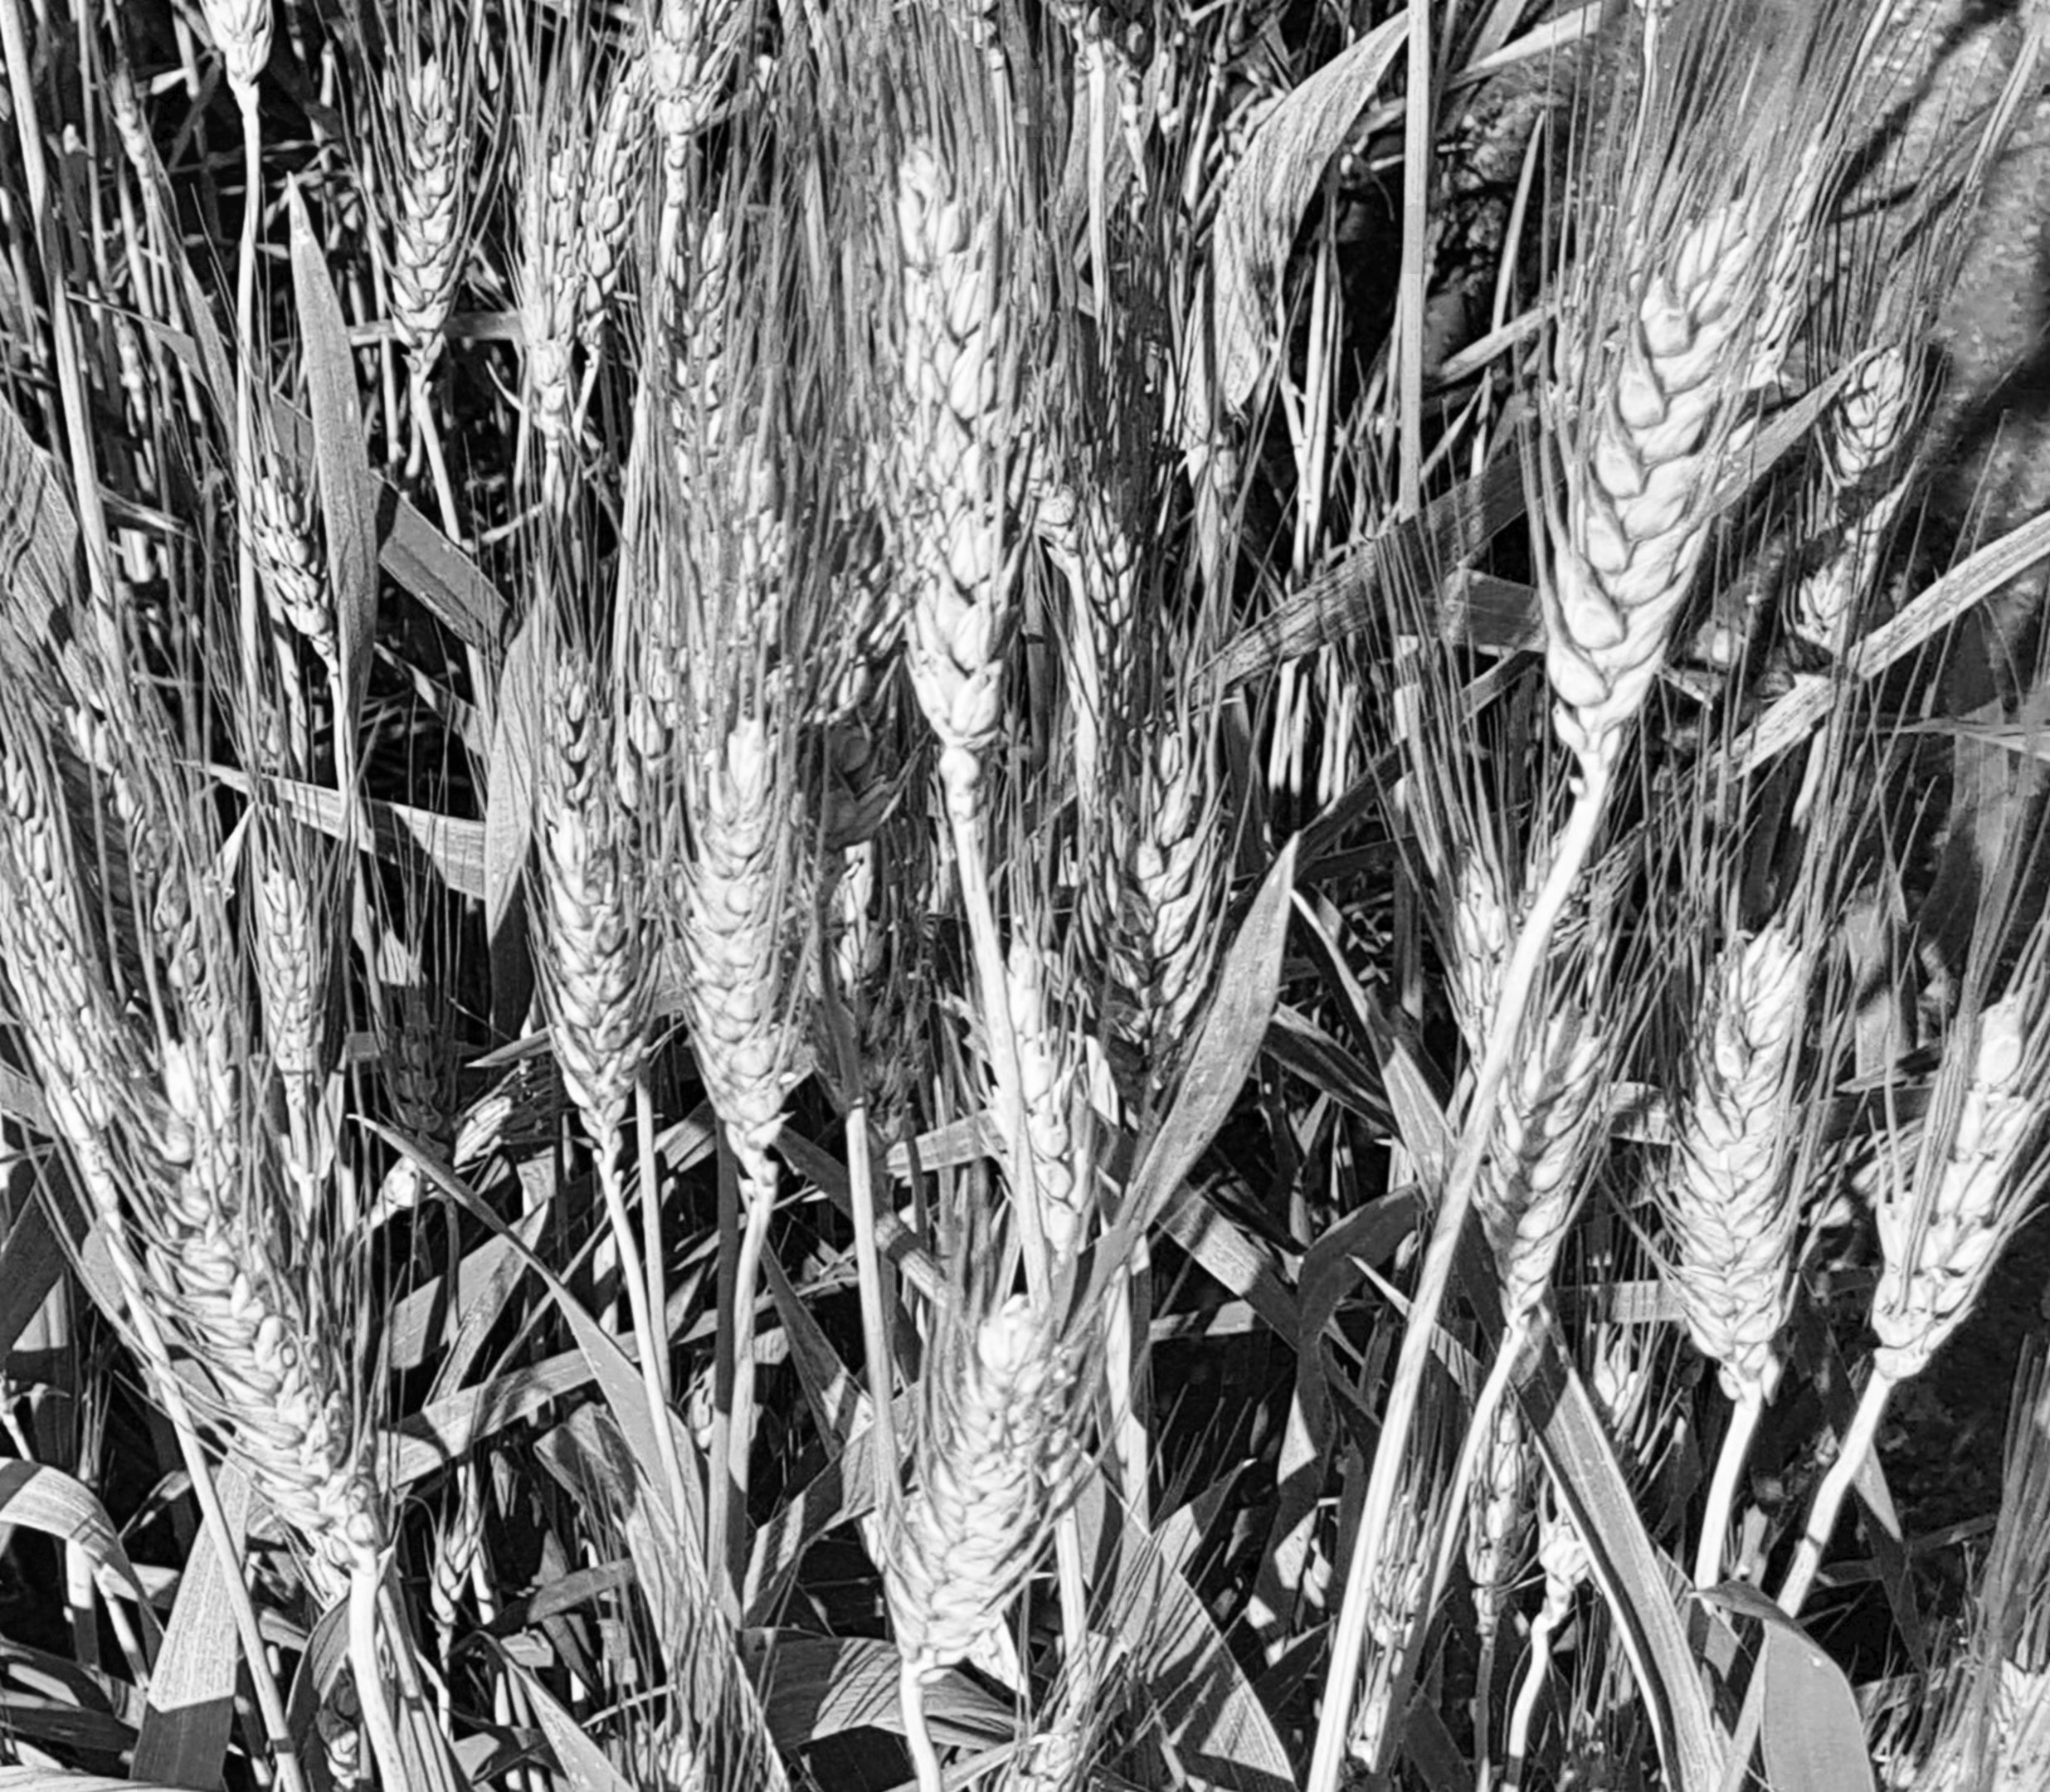Healthy Wheat: (1541, 187, 1823, 776), (537, 722, 840, 1185), (153, 1208, 425, 1579), (875, 1299, 1102, 1675), (1673, 915, 1827, 1424)
